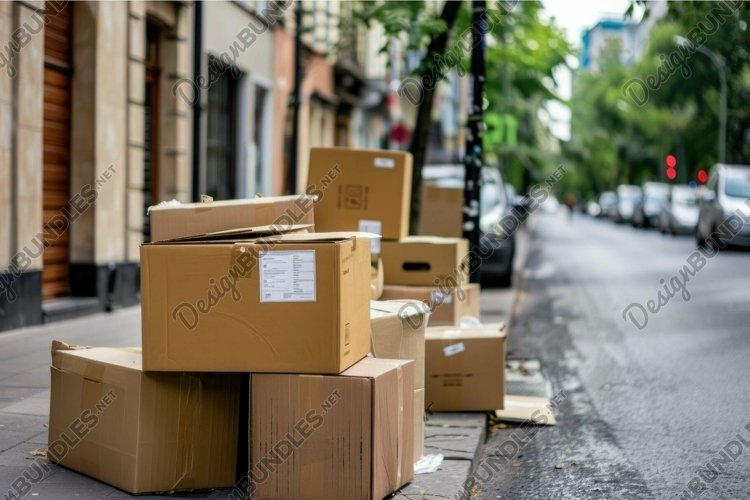DeliveryBox: (129, 233, 375, 375), (39, 338, 243, 500), (240, 360, 416, 496), (288, 129, 420, 249), (418, 318, 511, 413), (376, 229, 474, 289)
